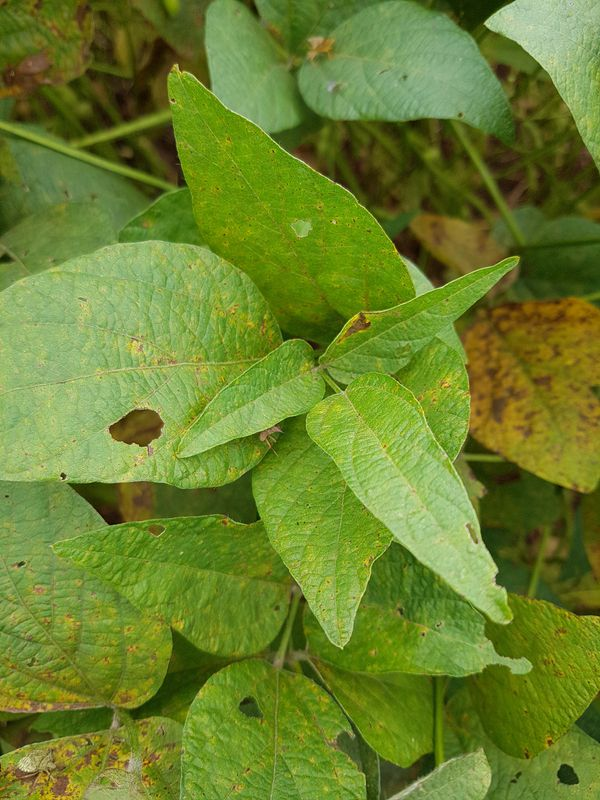Euschistus_heros_adulto: (249, 416, 291, 452), (303, 31, 341, 61)
Euschistus_heros_ninfa: (10, 745, 67, 789)
